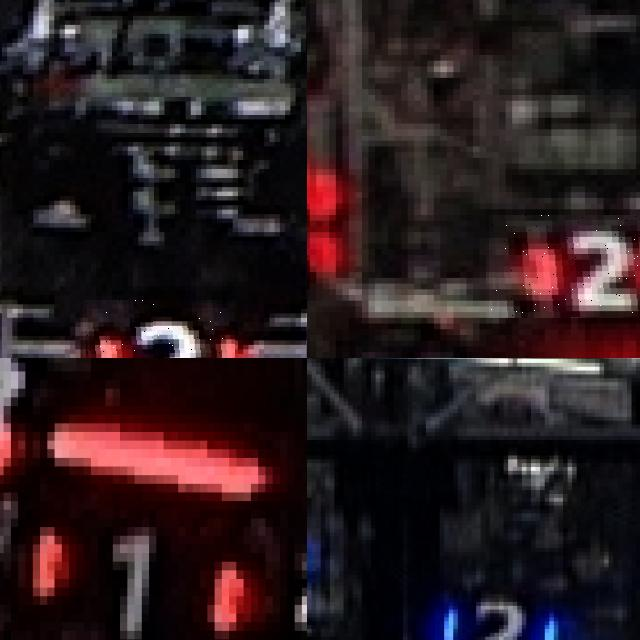B2: (421, 590, 567, 640)
R1: (18, 501, 243, 640)
R2: (489, 215, 640, 318), (83, 299, 235, 358)
